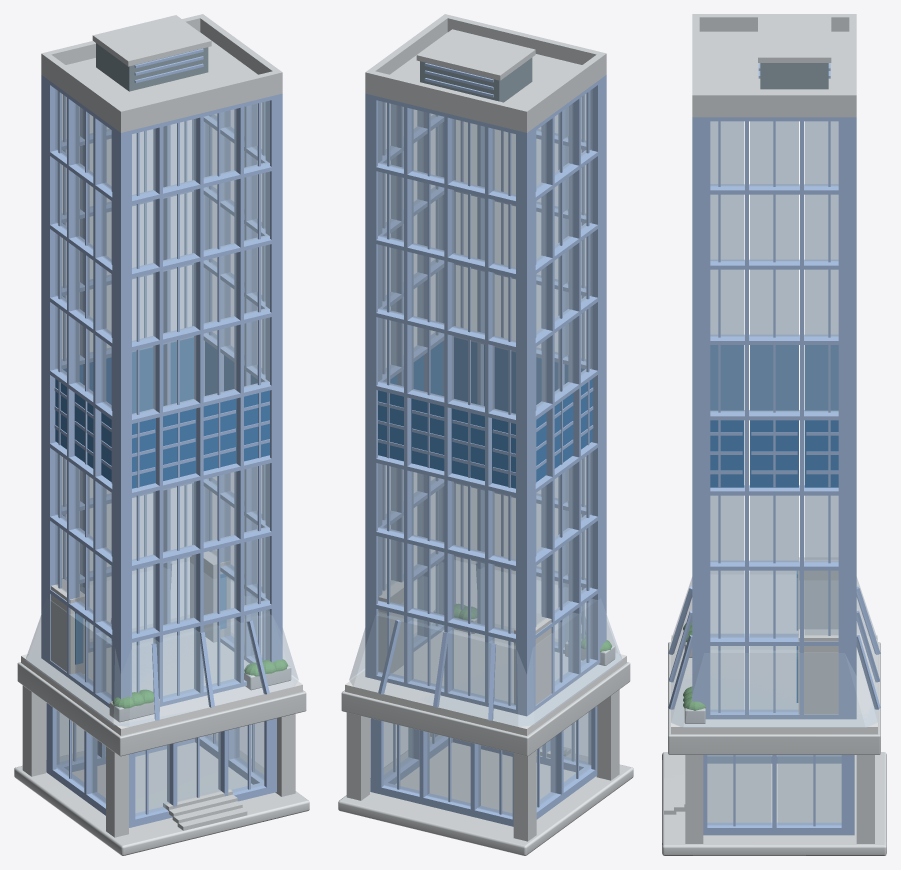
File: sun-hung-kai-centre.glb
3 renders of one model, left to right at view 1: azimuth 30°, elevation 25°; view 2: azimuth 150°, elevation 25°; view 3: azimuth 270°, elevation 25°, orthographic. The views are drawn at different scales.
Visible parts, largest first — view 1: SHK sloping glazed podium shoulders, SHK street plinth, SHK silver corner pier, SHK podium terrace, SHK silver corner pier.001, SHK tower xn facade pier.002, SHK tower xp facade pier, SHK silver corner pier.003, SHK podium lintel, SHK tower xn facade pier.003, SHK tower xn facade pier.001, SHK roof slab (+122 smaller); view 2: SHK sloping glazed podium shoulders, SHK street plinth, SHK silver corner pier.001, SHK podium terrace, SHK silver corner pier, SHK silver corner pier.002, SHK tower xn facade pier.002, SHK tower xn facade pier.001, SHK podium lintel, SHK tower zn facade pier.001, SHK tower zn facade pier.002, SHK tower xn facade pier (+119 smaller); view 3: SHK sloping glazed podium shoulders, SHK street plinth, SHK silver corner pier.002, SHK silver corner pier.003, SHK podium terrace, SHK roof slab, SHK podium lintel, SHK lobby xp inset glazing 0-0, SHK lobby xp inset glazing 0-1, SHK screened services plant roof, SHK tower xn inset glazing 3-1, SHK tower xp inset glazing 1-1 (+64 smaller).
Boxes of the visible parts, x1,y1,x2,y2 form: SHK sloping glazed podium shoulders: (25,598,298,726); SHK street plinth: (14,733,309,855); SHK silver corner pier: (41,75,58,663); SHK podium terrace: (21,615,302,735); SHK silver corner pier.001: (112,127,129,701); SHK tower xn facade pier.002: (93,113,106,694); SHK tower xp facade pier: (270,93,282,662); SHK silver corner pier.003: (265,93,282,661); SHK podium lintel: (17,662,306,756); SHK tower xn facade pier.003: (119,130,131,699); SHK tower xn facade pier.001: (67,93,79,677); SHK roof slab: (41,32,282,132); SHK sloping glazed podium shoulders: (349,598,622,726); SHK street plinth: (338,737,633,855); SHK silver corner pier.001: (589,75,606,663); SHK podium terrace: (345,622,626,735); SHK silver corner pier: (518,127,535,716); SHK silver corner pier.002: (365,94,382,678); SHK tower xn facade pier.002: (568,94,580,677); SHK tower xn facade pier.001: (541,113,554,696); SHK podium lintel: (341,662,630,756); SHK tower zn facade pier.001: (404,103,413,684); SHK tower zn facade pier.002: (444,113,453,695); SHK tower xn facade pier: (516,130,528,715); SHK sloping glazed podium shoulders: (671,571,877,727); SHK street plinth: (662,752,886,855); SHK silver corner pier.002: (838,117,856,719); SHK silver corner pier.003: (692,117,710,719); SHK podium terrace: (671,635,877,734); SHK roof slab: (692,31,856,117); SHK podium lintel: (668,642,880,754); SHK lobby xp inset glazing 0-0: (707,755,770,825); SHK lobby xp inset glazing 0-1: (778,755,841,825); SHK screened services plant roof: (758,15,831,62); SHK tower xn inset glazing 3-1: (750,345,798,410); SHK tower xp inset glazing 1-1: (750,571,798,637).
Size of the model in its own units: 2.24 by 8.5 by 2.24.
